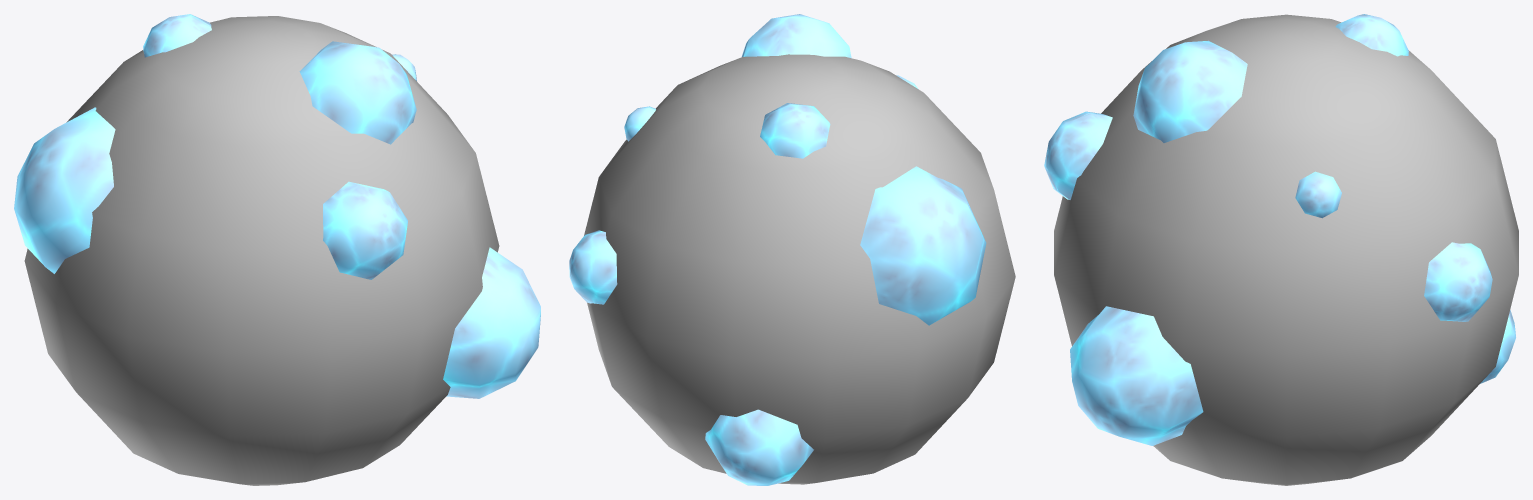
Rendered from Boule_receptacle.fbx.
3 views of the same model, side by side, from view 1: azimuth 30°, elevation 25°; view 2: azimuth 150°, elevation 25°; view 3: azimuth 270°, elevation 25° (orthographic). The views are drawn at different scales.
Visible parts, largest first — view 1: Receptacle1; view 2: Receptacle1; view 3: Receptacle1.
Part boxes in pixels (<box>): Receptacle1: <box>14,14,540,485</box>; Receptacle1: <box>569,14,1015,485</box>; Receptacle1: <box>1044,14,1518,485</box>.
Size of the model in its own units: 149 by 151 by 146.
